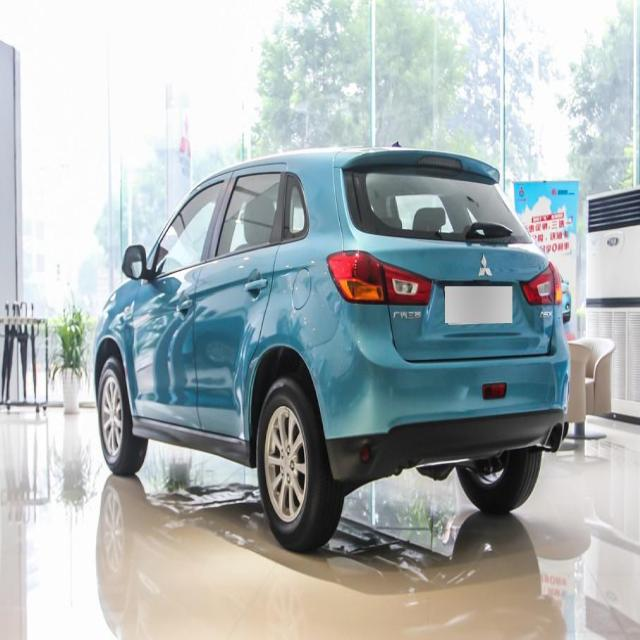back_glass: (341, 160, 534, 244)
back_left_side_light: (326, 247, 432, 309)
back_right_side_light: (518, 258, 564, 308)
door: (195, 160, 292, 435)
front_left_side_door: (131, 168, 234, 438)
front_left_side_mirror: (118, 240, 149, 283)
rear_bumper: (298, 328, 571, 486)
wheel: (257, 378, 336, 550), (454, 446, 548, 514), (99, 357, 142, 472)
